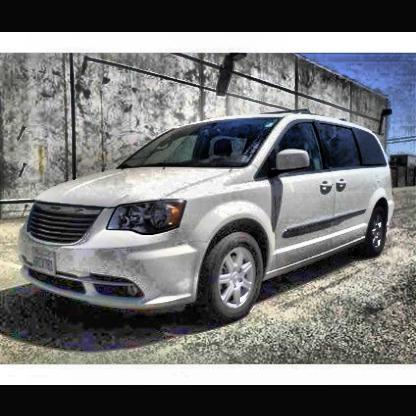Chrysler Town and Country Minivan 2012: (21, 112, 392, 320)
